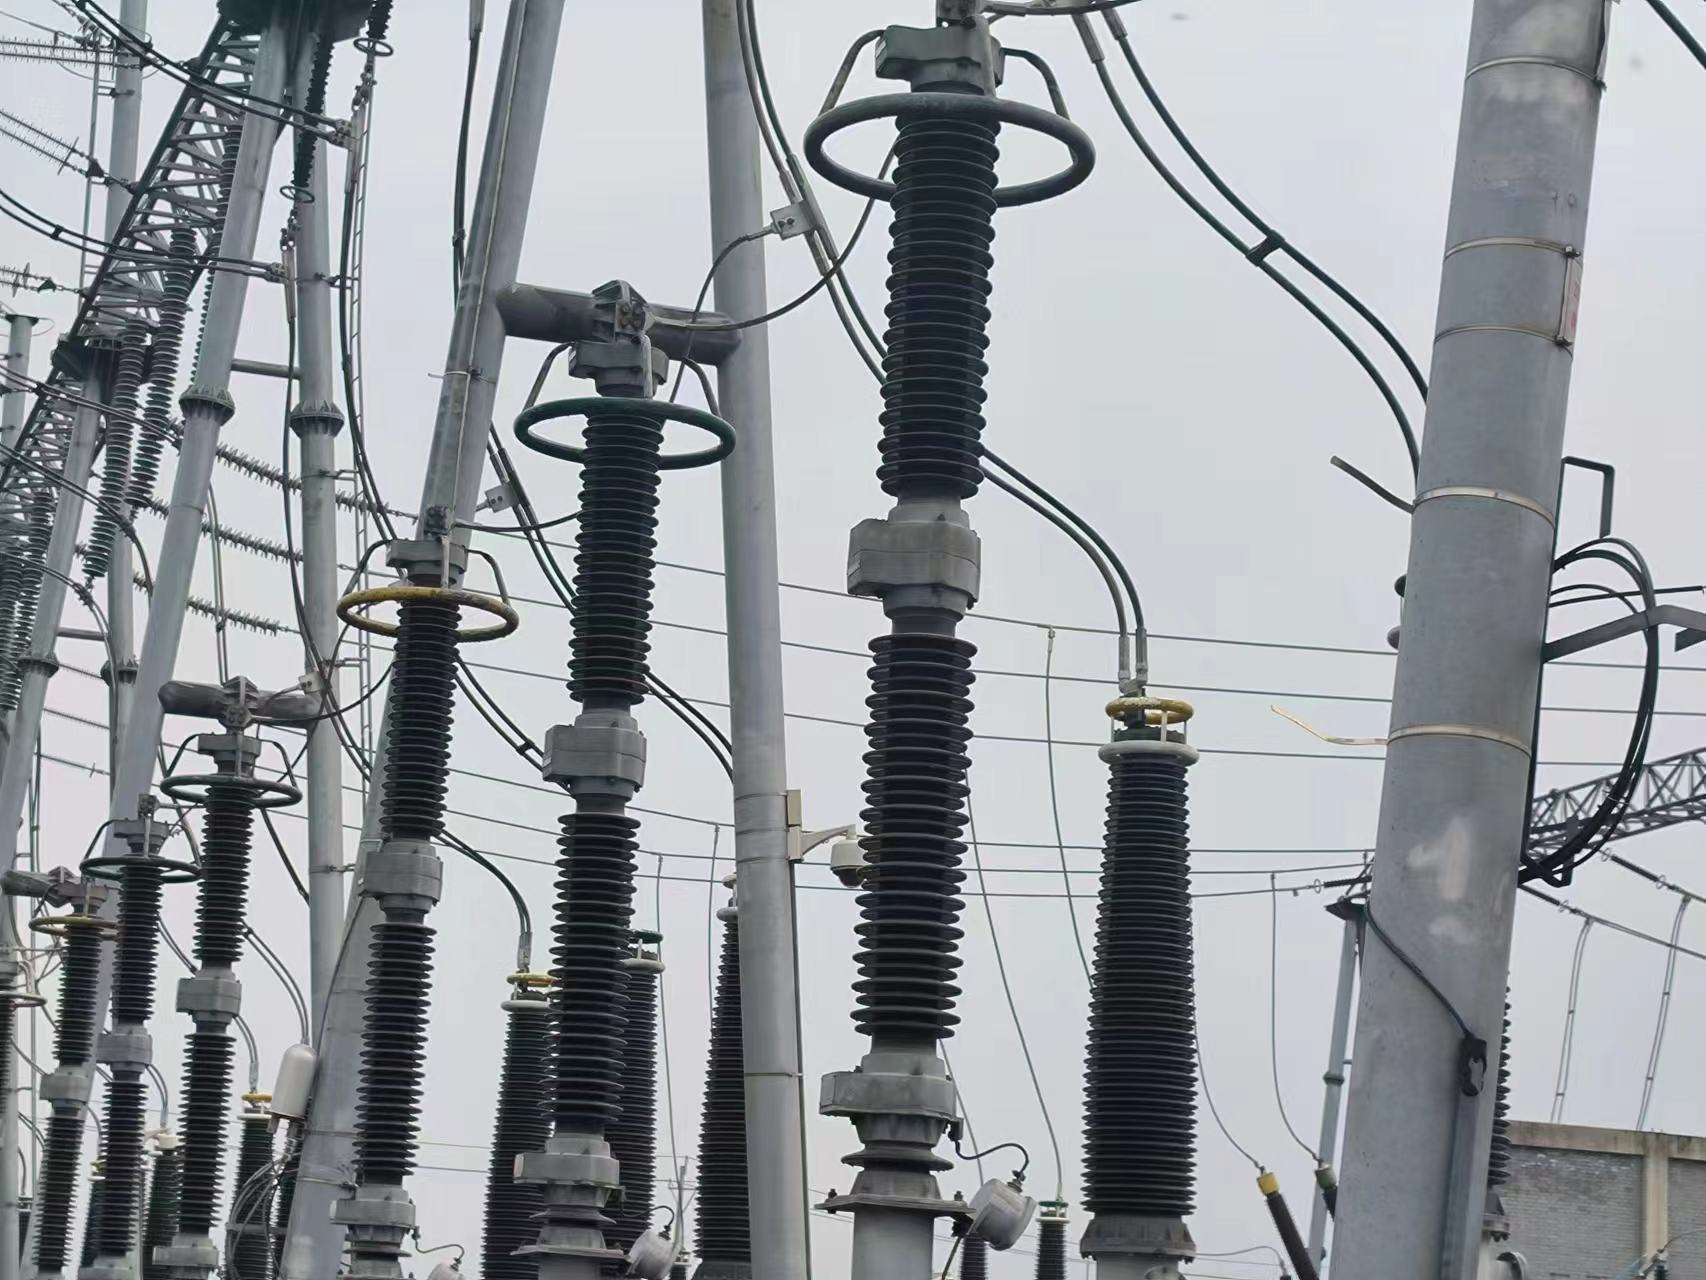Arrester: (800, 26, 1093, 1054), (512, 325, 743, 1146), (331, 524, 519, 1186), (159, 725, 301, 1233)
Voltage transformer: (1075, 688, 1211, 1219)
